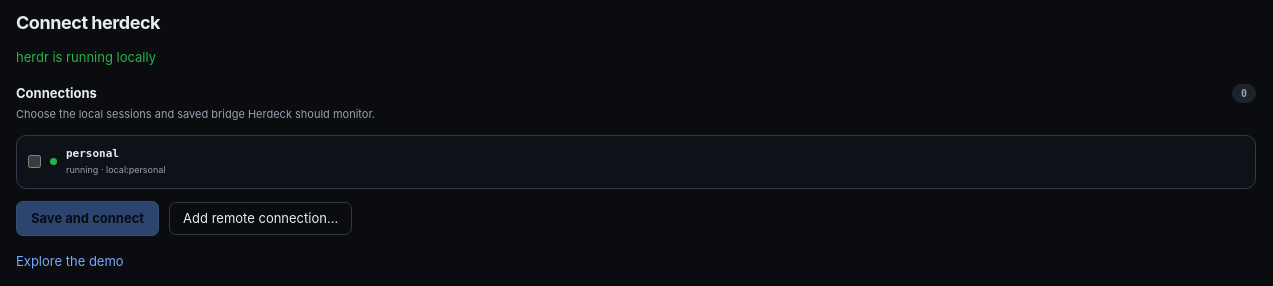
Test: Onboarding card › disables 'Save and connect' while nothing is selected
expect the button "Save and connect" is disabled: met, box [16,200,159,236]
Click the checkbox labelled "personal running · local:personal" at (34, 162), box [28,155,41,168]
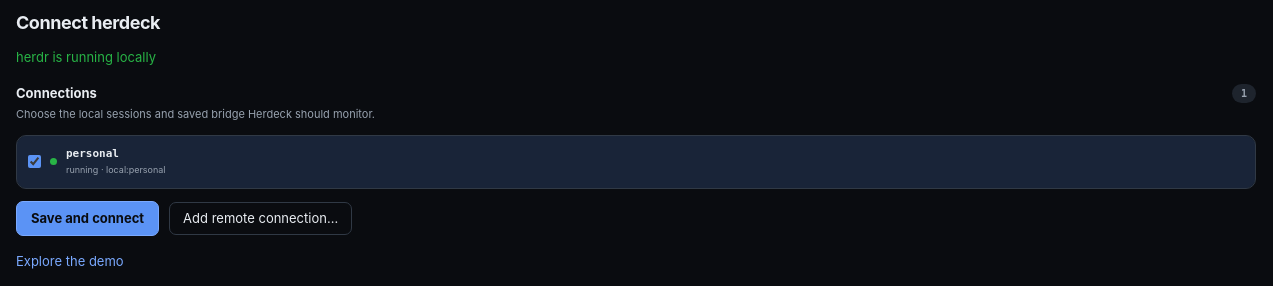
expect the button "Save and connect" is enabled: met, box [16,200,159,236]
